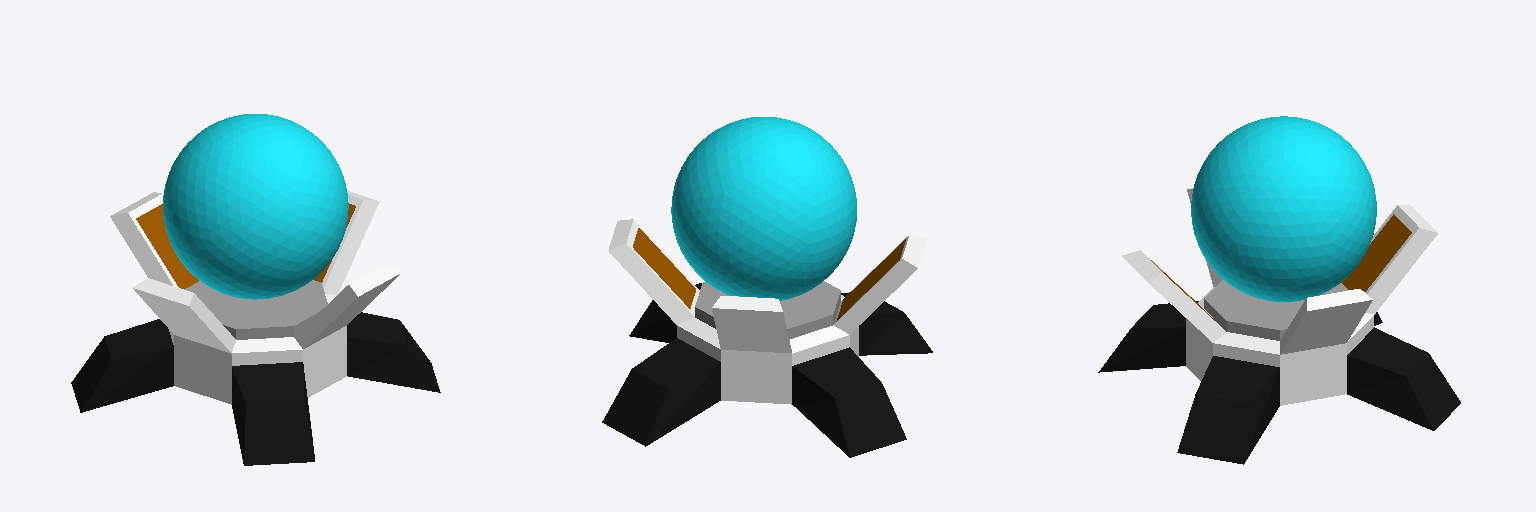
The model's file is CS_LockdownShield.obj.
The picture shows the model from 3 angles: view 1: azimuth 30°, elevation 25°; view 2: azimuth 150°, elevation 25°; view 3: azimuth 270°, elevation 25°; orthographic projection.
Parts seen in each view (by area): view 1: Lockdown; view 2: Lockdown; view 3: Lockdown.
Boxes of the visible parts, x1,y1,x2,y2 form: Lockdown: [71, 114, 440, 465]; Lockdown: [602, 117, 932, 457]; Lockdown: [1098, 116, 1460, 464].
Bounding box in the file's own units: 1.92 × 1.54 × 1.92.